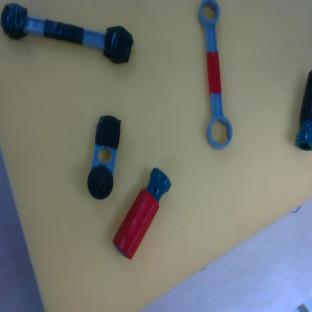part_1_bad: (85, 114, 121, 200)
part_2_bad: (295, 70, 312, 150)
part_2_good: (109, 166, 175, 259)
part_3_bad: (0, 1, 136, 66)
